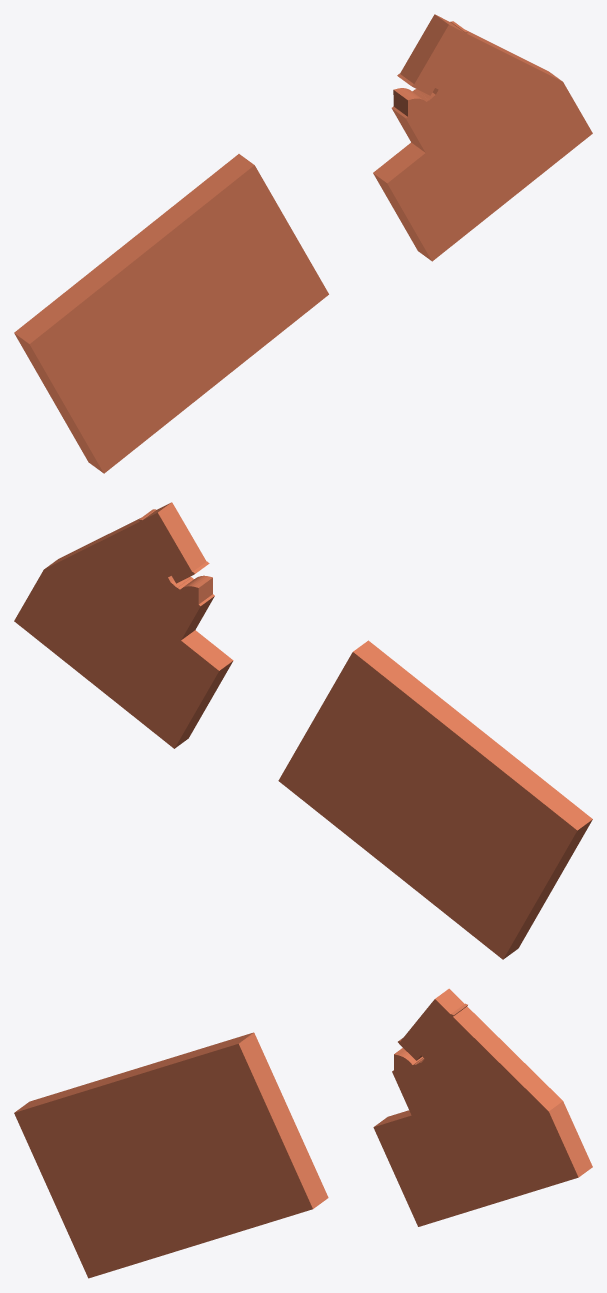
The model's file is buildings_existing.obj.
3 renders of one model, top to bottom at view 1: azimuth 30°, elevation 25°; view 2: azimuth 150°, elevation 25°; view 3: azimuth 330°, elevation 25°, orthographic.
Parts seen in each view (by area): view 1: BAG_0599100010060970, BAG_0599100000371373; view 2: BAG_0599100010060970, BAG_0599100000371373; view 3: BAG_0599100010060970, BAG_0599100000371373.
Part boxes in pixels (x1,y1,x2,y2): BAG_0599100010060970: [14, 154, 328, 473]; BAG_0599100000371373: [373, 14, 592, 261]; BAG_0599100010060970: [278, 640, 592, 959]; BAG_0599100000371373: [14, 502, 233, 748]; BAG_0599100010060970: [14, 1032, 328, 1278]; BAG_0599100000371373: [373, 988, 592, 1226].
Bounding box in the file's own units: 267 × 165 × 12.78.
